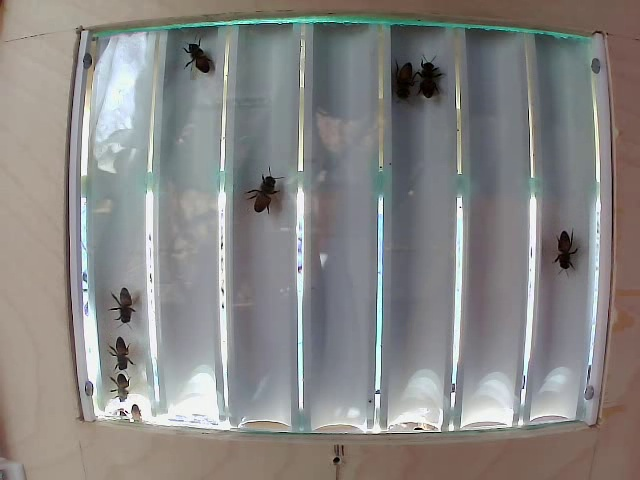bee: (179, 38, 231, 87), (104, 279, 144, 336), (247, 159, 285, 214), (389, 52, 420, 110), (540, 226, 574, 274), (98, 328, 134, 373), (419, 56, 441, 106), (101, 363, 130, 398)
